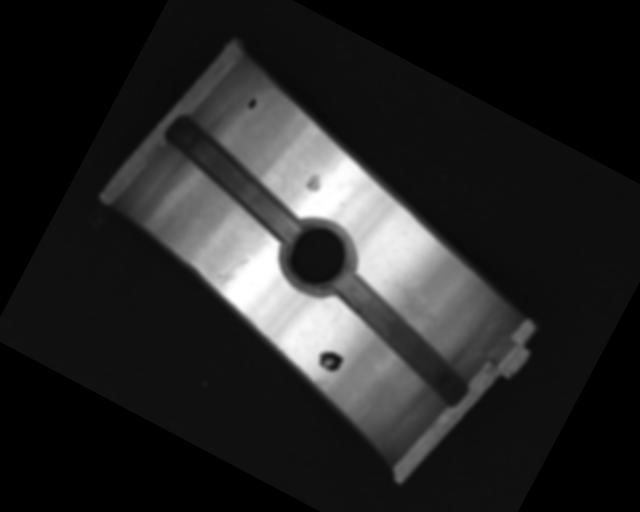blot: (314, 345, 347, 376), (245, 96, 260, 111)
bruise: (303, 170, 325, 194)
gap: (311, 267, 491, 408), (148, 111, 322, 241)
hole: (271, 207, 368, 305)
nick: (212, 249, 250, 296)
scratch: (386, 274, 472, 348)
